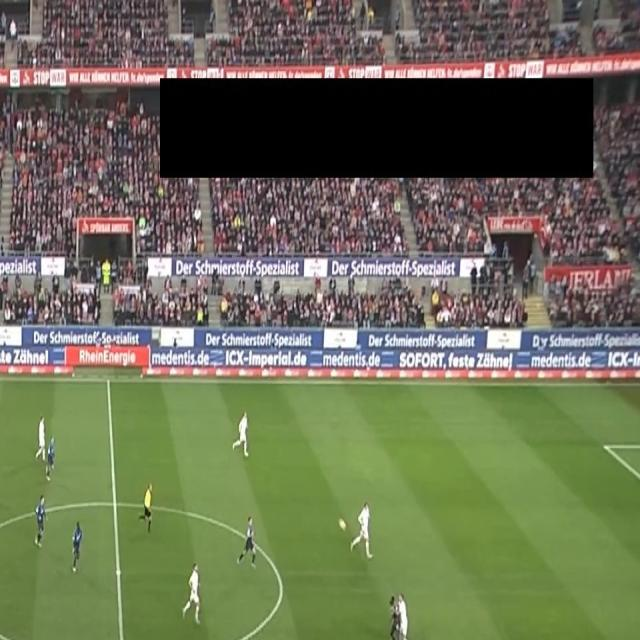ball: (337, 516, 348, 532)
